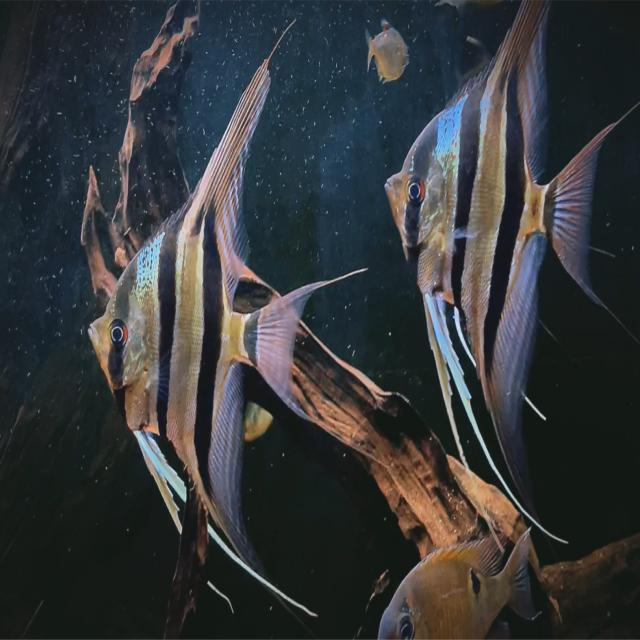AngelFish: (90, 60, 314, 567), (382, 11, 608, 495)
